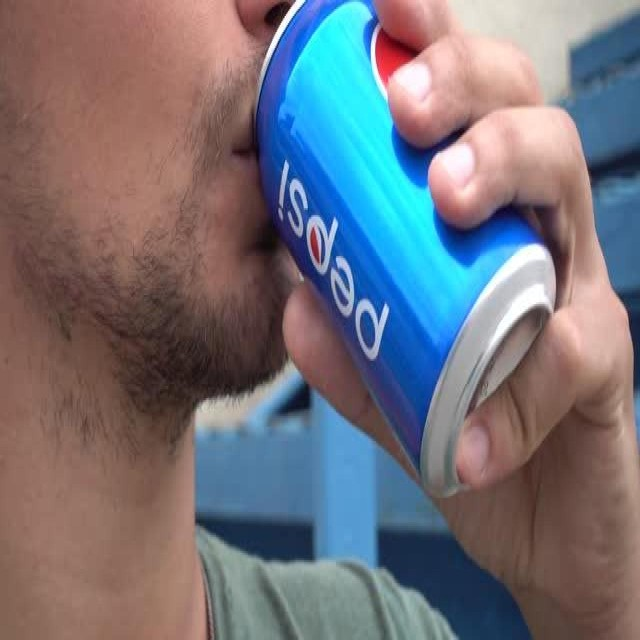pepsi: (274, 158, 392, 364)
